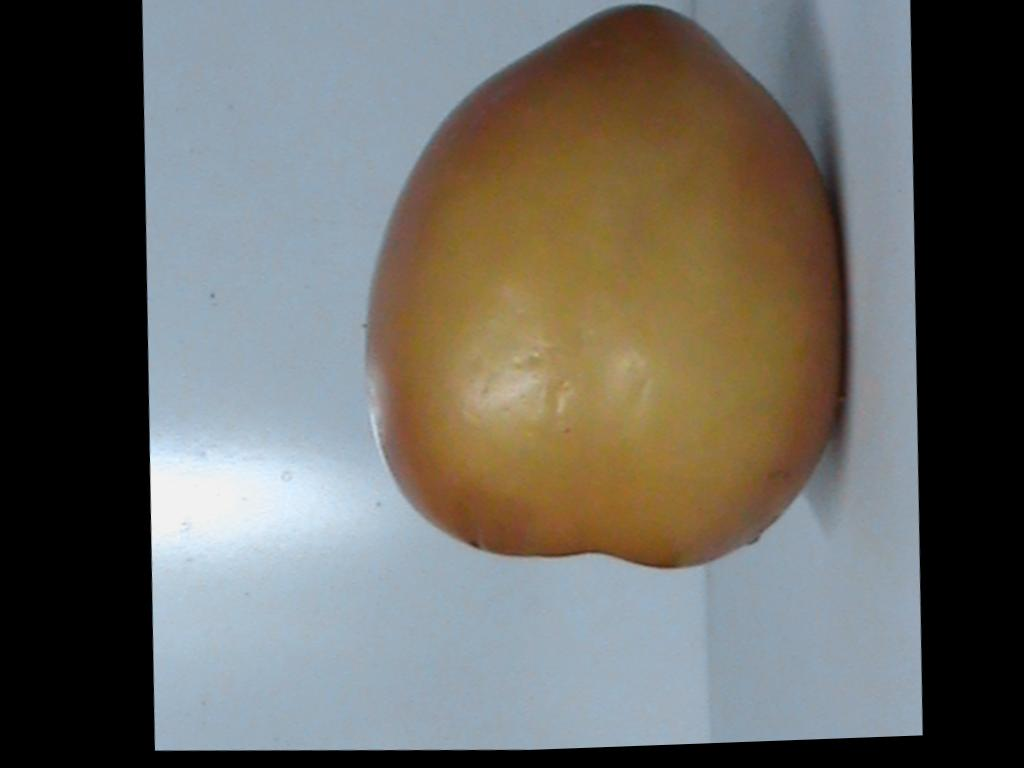bruise_discoloration: (404, 72, 812, 550)
tomato: (366, 6, 839, 565)
